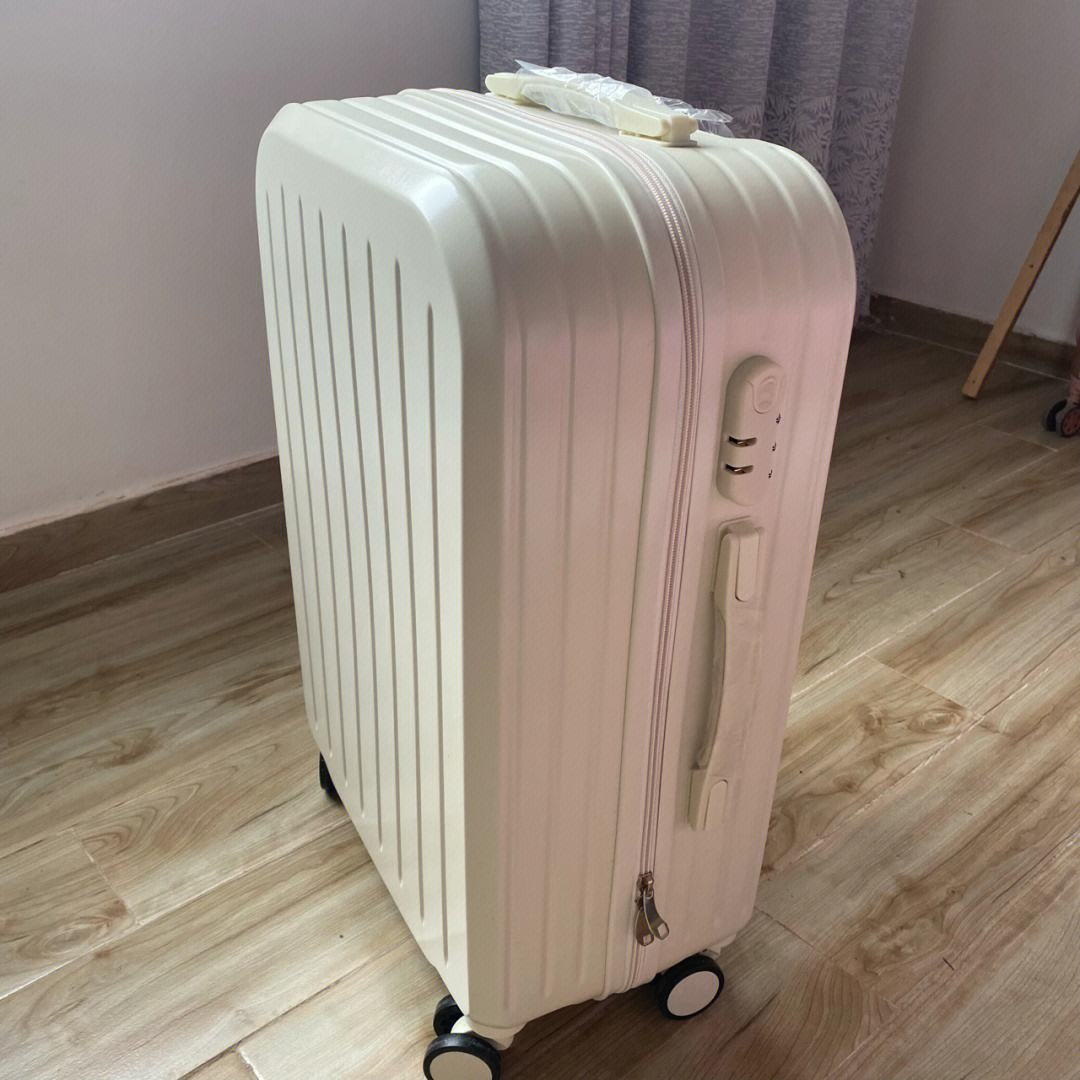box: (255, 85, 855, 1025)
handle: (682, 514, 773, 836), (482, 67, 705, 146)
lock: (715, 355, 787, 508)
wheel: (423, 994, 500, 1080), (656, 953, 725, 1021)
